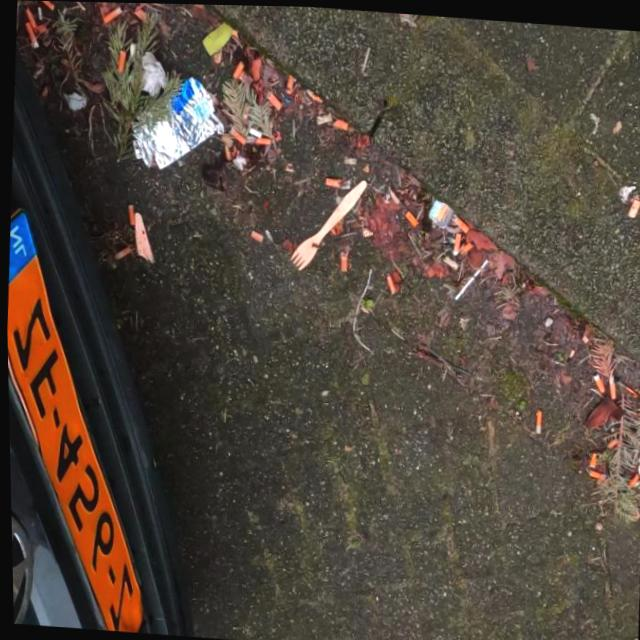Can-Metal: (127, 68, 229, 177)
